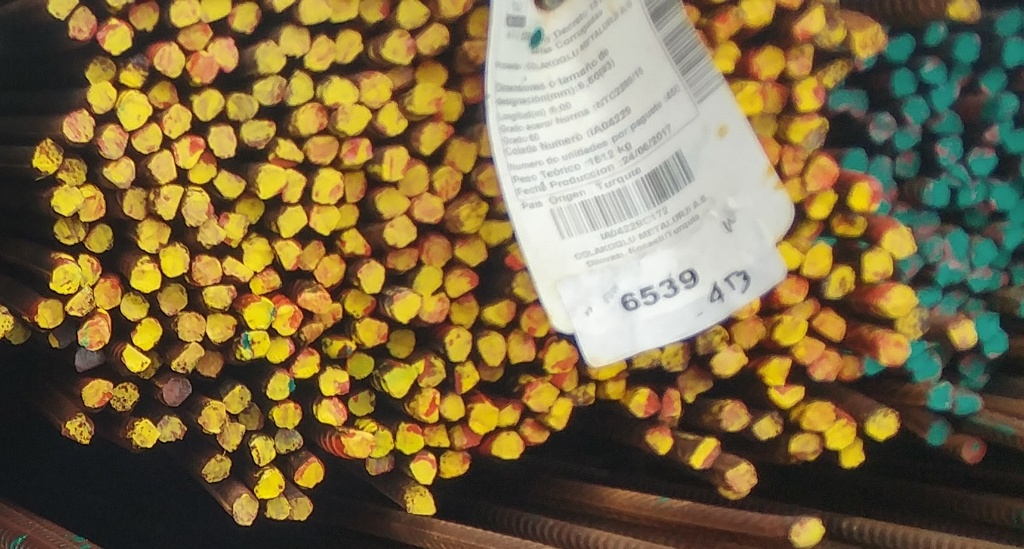dipstick: (785, 111, 828, 152), (720, 460, 758, 501), (445, 200, 488, 235), (251, 162, 289, 199), (376, 146, 413, 184), (685, 432, 722, 469), (116, 91, 151, 129), (407, 83, 445, 118), (830, 86, 869, 120), (863, 407, 900, 442), (118, 52, 153, 89), (847, 23, 885, 57), (785, 515, 826, 546), (418, 122, 453, 158), (845, 179, 881, 214), (305, 202, 341, 237), (711, 344, 748, 378), (428, 165, 466, 198), (805, 153, 838, 191), (793, 8, 829, 42), (860, 247, 896, 281), (752, 44, 785, 81), (678, 368, 715, 401), (445, 140, 482, 173), (319, 73, 358, 104), (882, 225, 917, 259), (188, 253, 223, 287), (770, 315, 811, 344), (798, 400, 835, 432), (730, 80, 764, 114), (909, 349, 942, 384), (803, 241, 835, 277), (951, 28, 982, 65), (207, 37, 240, 71), (179, 188, 212, 222), (311, 172, 344, 206), (882, 283, 917, 315), (339, 136, 374, 168), (311, 253, 346, 285), (624, 387, 660, 418), (413, 22, 450, 52), (583, 357, 629, 381), (393, 1, 431, 30), (824, 265, 857, 298), (59, 412, 93, 444), (151, 44, 185, 76), (134, 218, 166, 252), (188, 255, 222, 287), (360, 76, 395, 107), (76, 186, 106, 222), (383, 29, 413, 65), (730, 318, 766, 348), (190, 89, 227, 118), (815, 18, 848, 50), (392, 422, 424, 455), (916, 55, 948, 88), (411, 355, 444, 387), (96, 126, 129, 158), (794, 79, 827, 111), (385, 325, 417, 358), (518, 304, 551, 336), (64, 10, 98, 41), (753, 408, 784, 442), (477, 332, 508, 366), (286, 347, 320, 378), (336, 228, 370, 259), (128, 319, 163, 349), (294, 104, 329, 134), (473, 159, 503, 194), (375, 189, 410, 219), (769, 381, 805, 410), (345, 289, 381, 318), (303, 134, 340, 162), (883, 34, 915, 66), (292, 457, 324, 489), (398, 162, 430, 194), (712, 10, 745, 41), (823, 418, 856, 449), (127, 419, 158, 452), (71, 255, 102, 288), (34, 140, 65, 173), (808, 350, 841, 381), (77, 319, 110, 350), (282, 71, 315, 102), (757, 82, 790, 113), (263, 367, 294, 400), (158, 245, 189, 278), (269, 237, 302, 268), (790, 431, 820, 465), (78, 378, 112, 408), (279, 23, 313, 53), (237, 329, 271, 359), (241, 119, 275, 149), (446, 294, 480, 324), (383, 217, 417, 247), (714, 401, 749, 430), (738, 2, 775, 29), (97, 21, 129, 52), (646, 425, 677, 457), (710, 41, 741, 73), (876, 333, 908, 364), (160, 375, 192, 406), (816, 308, 848, 339), (242, 236, 273, 268), (227, 1, 260, 31), (490, 431, 523, 461), (254, 42, 287, 72), (305, 36, 335, 69), (887, 70, 920, 100), (102, 158, 135, 188), (336, 105, 369, 135), (183, 153, 216, 183), (211, 168, 244, 198), (61, 112, 95, 141), (949, 317, 978, 351), (543, 344, 577, 373), (445, 362, 479, 391), (128, 260, 162, 289), (480, 215, 514, 244), (658, 389, 686, 424), (253, 77, 288, 105), (166, 344, 201, 372), (421, 236, 452, 267), (85, 82, 117, 112), (931, 111, 963, 141), (119, 293, 151, 323), (210, 127, 240, 159), (388, 290, 420, 320), (228, 492, 257, 525), (804, 189, 837, 218), (179, 23, 213, 51), (314, 396, 348, 424), (220, 385, 254, 413), (52, 218, 87, 245), (50, 264, 81, 294), (382, 366, 412, 397), (149, 155, 179, 186), (378, 105, 408, 136), (419, 293, 450, 323), (540, 397, 569, 429), (253, 468, 285, 497), (110, 384, 139, 416), (64, 286, 93, 318), (273, 426, 305, 455), (174, 310, 206, 339), (412, 194, 444, 223), (525, 381, 558, 409), (271, 139, 304, 167), (277, 202, 305, 235), (757, 357, 791, 384), (452, 238, 486, 265), (441, 268, 479, 292), (993, 8, 1023, 38), (318, 365, 348, 395), (172, 136, 202, 166), (469, 402, 498, 433), (406, 486, 437, 515), (86, 53, 115, 84), (334, 31, 363, 62), (506, 336, 537, 365), (149, 78, 178, 109), (274, 303, 305, 332), (240, 302, 271, 331), (438, 450, 470, 478), (120, 342, 152, 370), (93, 275, 121, 307), (866, 112, 898, 140), (205, 314, 237, 342), (354, 320, 387, 347), (745, 114, 782, 138), (296, 1, 331, 26), (53, 186, 83, 215), (662, 341, 692, 370), (198, 402, 228, 431), (921, 177, 950, 207), (898, 310, 927, 340), (443, 331, 473, 360), (779, 276, 809, 305), (202, 453, 233, 481), (82, 226, 113, 254), (158, 284, 189, 312), (485, 298, 516, 326), (778, 147, 806, 178), (992, 180, 1019, 212), (517, 418, 549, 445), (199, 285, 235, 309), (226, 93, 259, 119), (318, 334, 352, 359), (385, 244, 419, 269), (970, 147, 999, 176), (121, 189, 150, 218), (412, 263, 441, 292), (953, 386, 981, 416), (962, 205, 992, 233), (511, 271, 539, 301), (792, 336, 823, 363), (155, 186, 182, 217), (219, 256, 250, 283), (932, 139, 964, 165), (903, 97, 929, 129), (248, 268, 280, 294), (946, 1, 982, 24), (837, 442, 866, 470), (495, 400, 523, 429), (821, 60, 850, 88), (357, 262, 386, 290), (75, 344, 106, 370), (698, 326, 729, 352), (793, 212, 824, 238), (357, 1, 389, 26), (466, 7, 491, 39), (47, 322, 79, 347), (298, 285, 330, 310), (166, 2, 199, 26), (972, 313, 1000, 341), (927, 382, 955, 410), (247, 436, 275, 464), (128, 5, 157, 32), (992, 93, 1019, 122), (156, 416, 185, 443), (300, 241, 327, 270), (33, 302, 63, 328), (942, 61, 972, 87), (236, 402, 266, 428), (998, 220, 1023, 251), (56, 158, 87, 183), (343, 354, 374, 379), (416, 62, 448, 86), (833, 213, 866, 236), (981, 331, 1008, 359), (785, 48, 812, 76), (196, 350, 224, 377), (199, 220, 227, 247), (958, 351, 984, 380), (967, 264, 993, 293), (568, 383, 597, 409), (969, 236, 995, 265), (216, 422, 245, 448), (845, 147, 871, 176), (755, 137, 781, 166), (421, 424, 451, 449), (459, 39, 486, 66), (893, 255, 921, 281), (271, 401, 304, 423), (266, 337, 295, 362), (416, 389, 440, 419), (727, 298, 761, 319), (344, 171, 367, 202), (449, 427, 481, 449), (344, 431, 371, 457), (348, 391, 374, 418), (913, 210, 939, 237), (922, 21, 947, 49), (982, 123, 1011, 147), (326, 1, 359, 22), (198, 1, 229, 23), (1002, 40, 1024, 71), (266, 496, 292, 522), (933, 83, 959, 109), (837, 356, 863, 382), (437, 395, 464, 420), (960, 182, 988, 206), (458, 76, 486, 100), (935, 262, 963, 286), (598, 378, 627, 401), (961, 439, 987, 464), (874, 176, 900, 201), (778, 244, 804, 269), (981, 69, 1008, 93), (368, 428, 392, 455), (947, 232, 969, 261), (366, 455, 396, 476), (921, 235, 946, 260), (895, 152, 921, 176), (784, 176, 808, 202), (287, 497, 314, 520), (938, 291, 966, 313), (925, 420, 950, 444), (411, 460, 436, 484), (550, 366, 577, 388), (477, 125, 496, 156), (433, 2, 474, 16), (895, 128, 921, 150), (918, 282, 940, 308), (443, 92, 463, 120), (633, 349, 662, 368), (944, 165, 969, 187), (296, 321, 326, 339), (48, 1, 76, 20), (506, 247, 528, 271), (848, 52, 877, 70), (387, 67, 413, 87), (319, 302, 342, 324), (479, 361, 503, 382), (1005, 129, 1024, 154), (6, 323, 31, 342), (963, 294, 985, 315), (337, 204, 358, 226), (871, 157, 895, 176), (895, 206, 919, 225), (992, 249, 1012, 270), (1, 304, 14, 336), (865, 357, 887, 375), (1008, 200, 1024, 224), (683, 5, 702, 25), (992, 266, 1008, 287), (105, 1, 135, 12), (779, 1, 806, 12), (1012, 263, 1024, 287), (492, 196, 508, 214), (267, 1, 295, 11), (911, 339, 926, 356)
